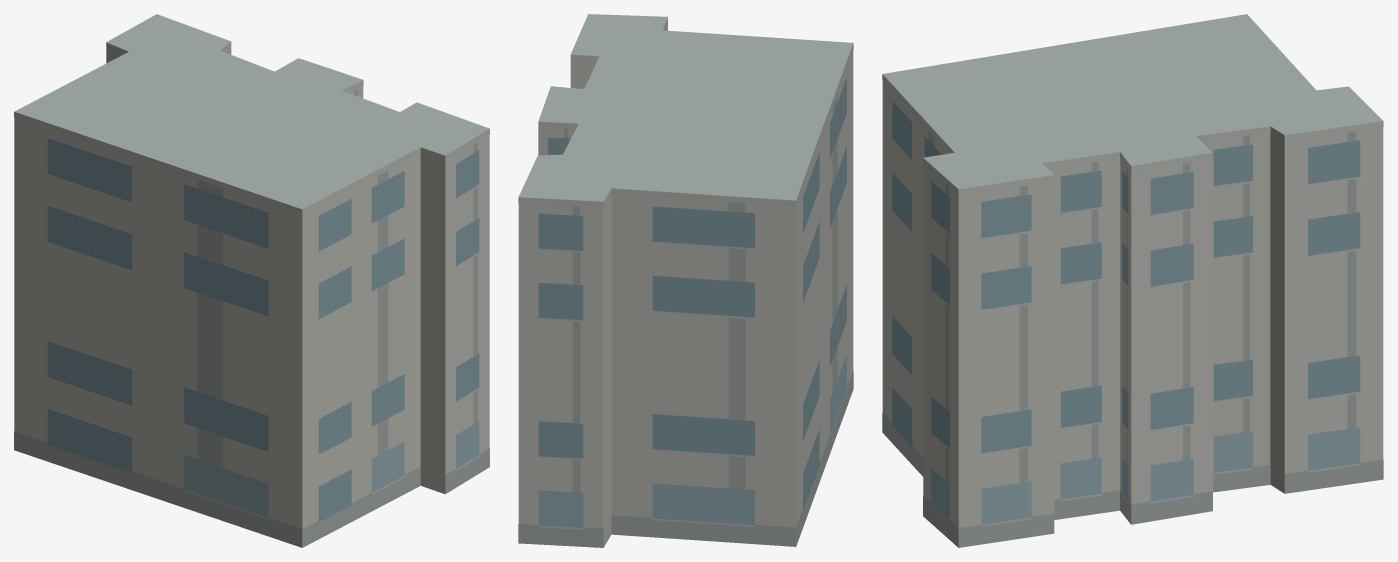
Rendered from survey-upis-32893272.glb.
The picture shows the model from 3 angles, left to right: view 1: azimuth 30°, elevation 25°; view 2: azimuth 150°, elevation 25°; view 3: azimuth 270°, elevation 25°; orthographic projection. The views are drawn at different scales.
Visible parts, largest first — view 1: survey-upis-32893272.tmp; view 2: survey-upis-32893272.tmp; view 3: survey-upis-32893272.tmp.
Part boxes in pixels (x1=…): survey-upis-32893272.tmp: x1=14, y1=14, x2=489, y2=547; survey-upis-32893272.tmp: x1=518, y1=14, x2=853, y2=547; survey-upis-32893272.tmp: x1=882, y1=14, x2=1383, y2=547.
Size of the model in its own units: 14.23 by 13.55 by 17.17.
